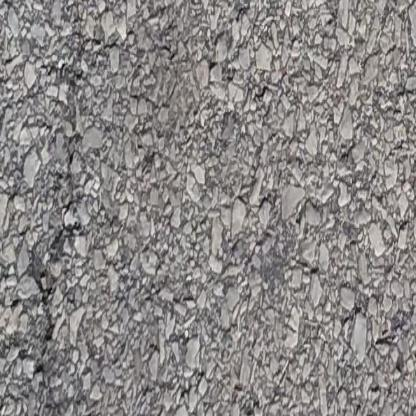Cracks: (0, 60, 29, 115)
